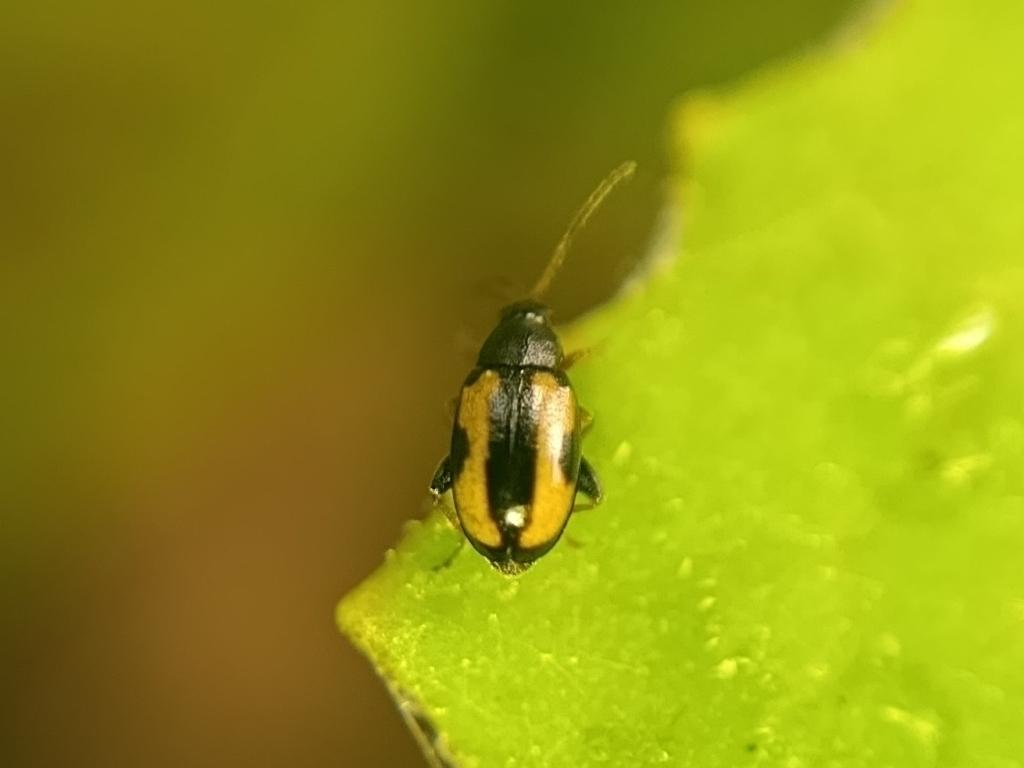flea_beetle: (375, 129, 663, 612)
